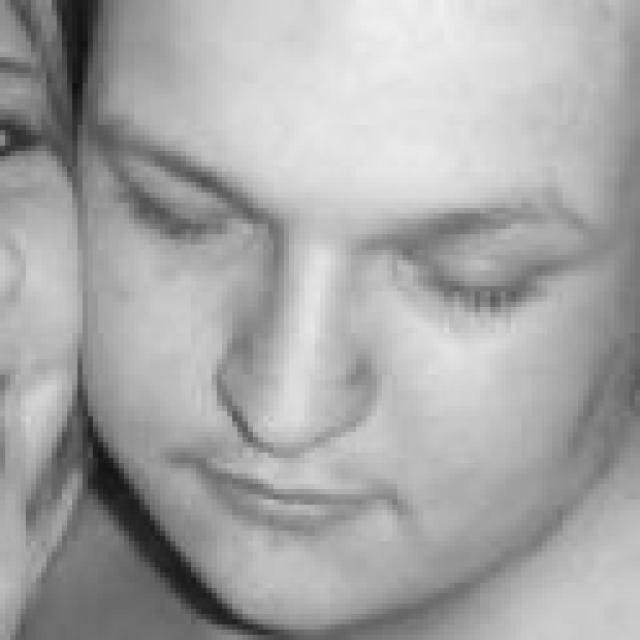real: (80, 88, 596, 630), (145, 167, 555, 327)
